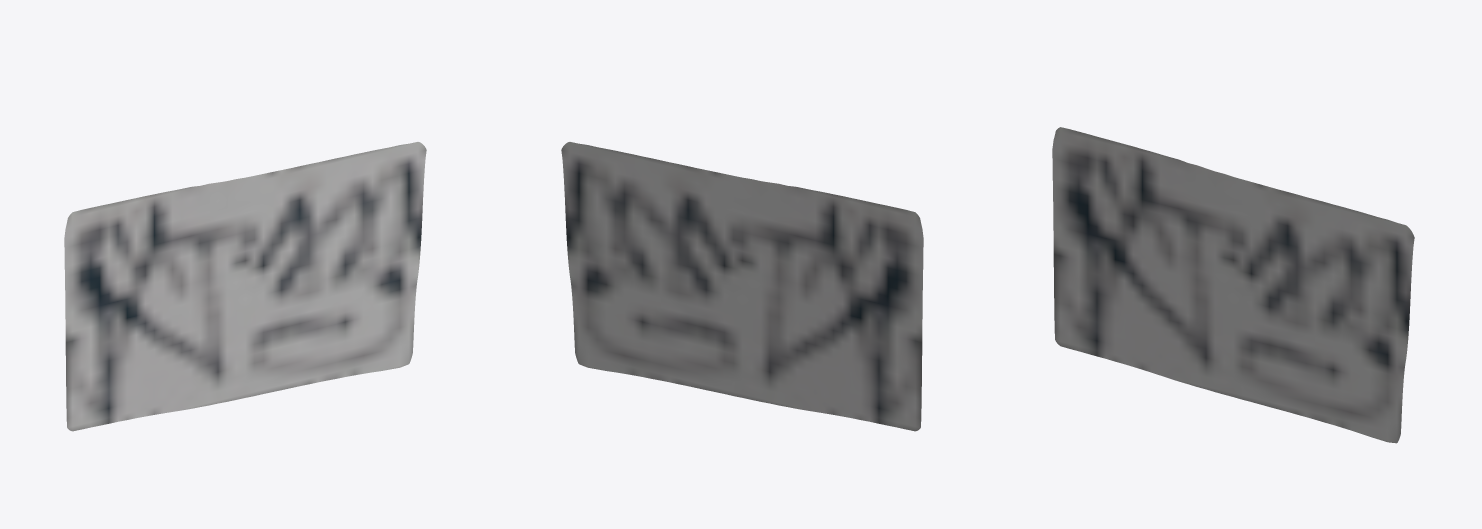
Rendered from Sticker_14.fbx.
The picture shows the model from 3 angles, left to right: view 1: azimuth 30°, elevation 25°; view 2: azimuth 150°, elevation 25°; view 3: azimuth 330°, elevation 25°; orthographic projection.
Parts seen in each view (by area): view 1: Sticker_14; view 2: Sticker_14; view 3: Sticker_14.
Part boxes in pixels (x1,y1,x2,y2): Sticker_14: [64, 142, 426, 431]; Sticker_14: [561, 142, 923, 431]; Sticker_14: [1052, 127, 1414, 443].
Size of the model in its own units: 0.1 by 0.08 by 8.5e-09.
